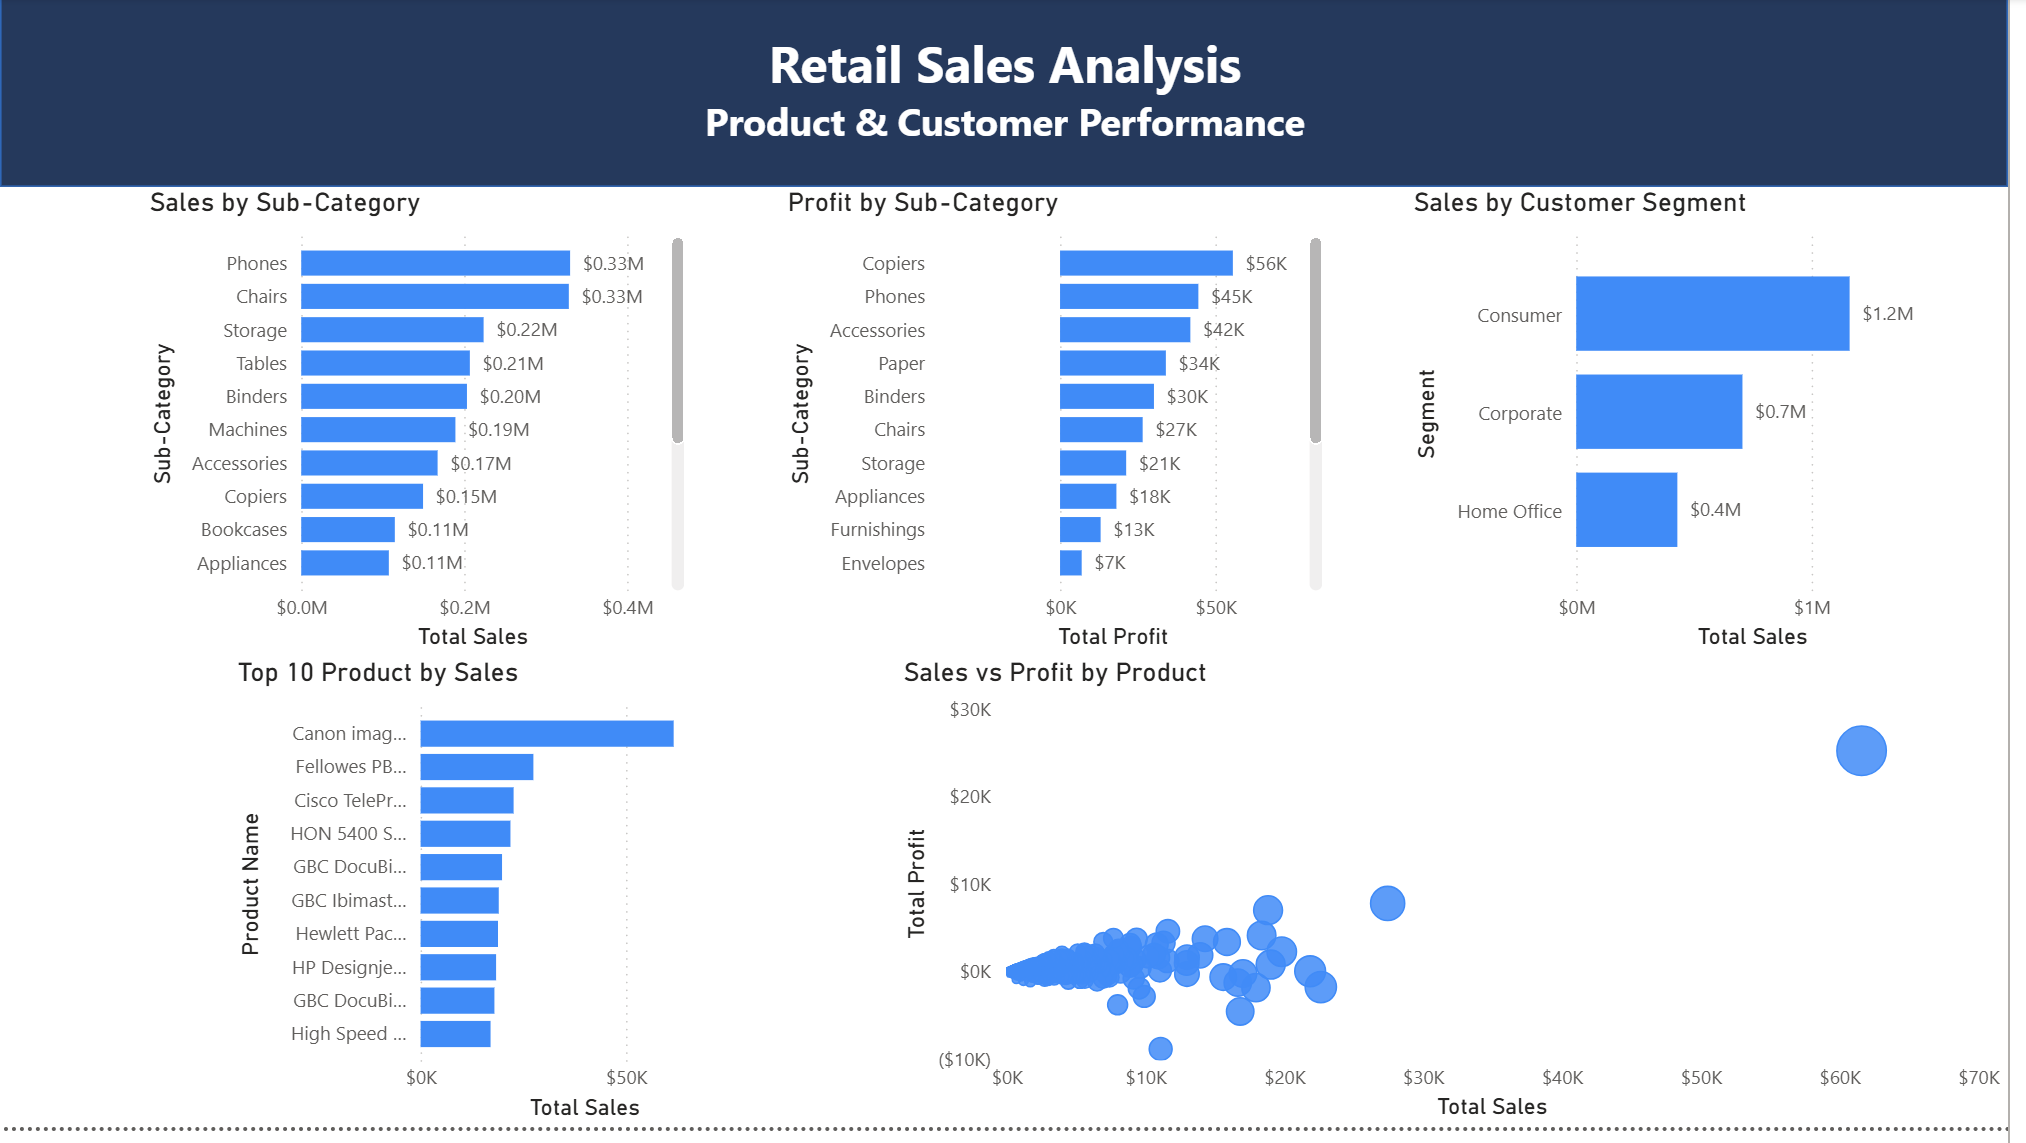

The page's visual inventory and layout, read from the dashboard file:
{"tool":"powerbi","page":{"name":"Sales Analysis","canvas":[1280,720],"ordinal":1},"visuals":[{"type":"clusteredBarChart","title":"Sales by Sub-Category","fields":{"Category":["Orders.Sub-Category"],"Y":["Measures (2).Total Sales"]},"box":[90.5,121.1,350.6,299.6],"z":0},{"type":"clusteredBarChart","title":"Profit by Sub-Category","fields":{"Category":["Orders.Sub-Category"],"Y":["Measures (2).Total Profit"]},"box":[497.2,121.1,350.6,299.6],"z":1000},{"type":"clusteredBarChart","title":"Top 10 Product by Sales","fields":{"Category":["Orders.Product Name"],"Y":["Measures (2).Total Sales"]},"box":[146.6,420.7,350,300],"z":2000},{"type":"scatterChart","title":"Sales vs Profit by Product","fields":{"X":["Measures (2).Total Sales"],"Y":["Measures (2).Total Profit"],"Category":["Orders.Product Name"],"Size":["Sum(Orders.Sales)"]},"box":[571.2,420.7,708.8,299.6],"z":3000},{"type":"clusteredBarChart","title":"Sales by Customer Segment","fields":{"Y":["Measures (2).Total Sales"],"Category":["Orders.Segment"]},"box":[896.3,121.1,350.6,299.6],"z":4000},{"type":"shape","box":[0,0,1280,121.1],"z":5000},{"type":"textbox","box":[385,15.3,511.2,105.8],"z":6000}]}

Visuals, with their boxes in screenshot pixels (x1, y1, x2, y2), scaled from the page's 1280x720 canvas onto the 2026x1143 screenshot:
"Sales by Sub-Category" clusteredBarChart: (x1=143, y1=192, x2=698, y2=668)
"Profit by Sub-Category" clusteredBarChart: (x1=787, y1=192, x2=1342, y2=668)
"Top 10 Product by Sales" clusteredBarChart: (x1=232, y1=668, x2=786, y2=1142)
"Sales vs Profit by Product" scatterChart: (x1=904, y1=668, x2=2025, y2=1142)
"Sales by Customer Segment" clusteredBarChart: (x1=1419, y1=192, x2=1974, y2=668)
shape: (x1=0, y1=0, x2=2025, y2=192)
textbox: (x1=609, y1=24, x2=1419, y2=192)
